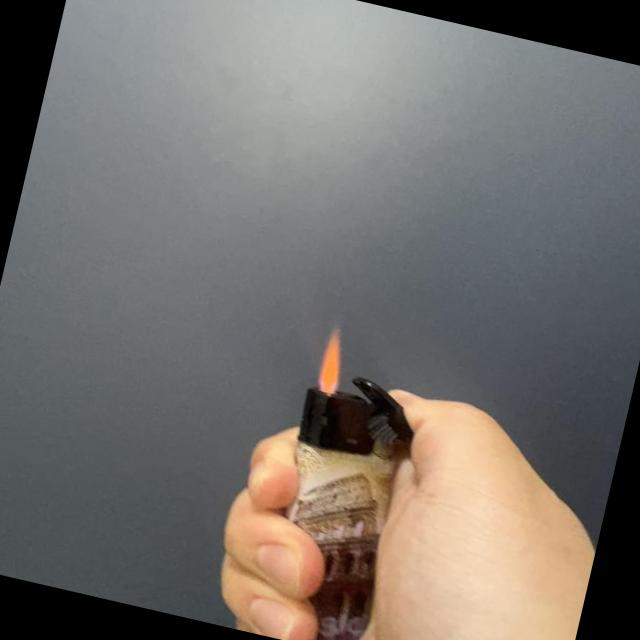Fire: (311, 326, 353, 398)
